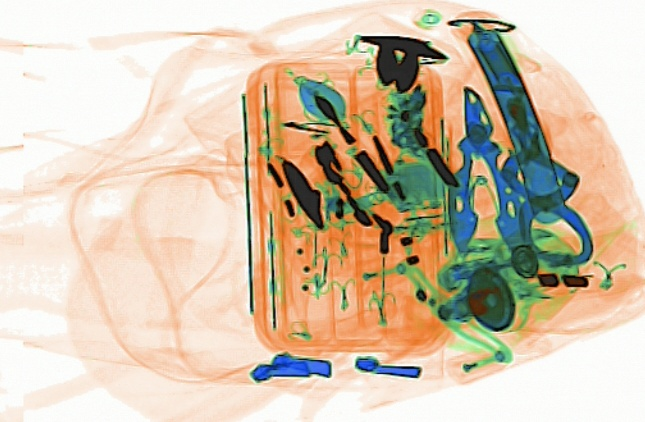scissors: (443, 80, 528, 259)
